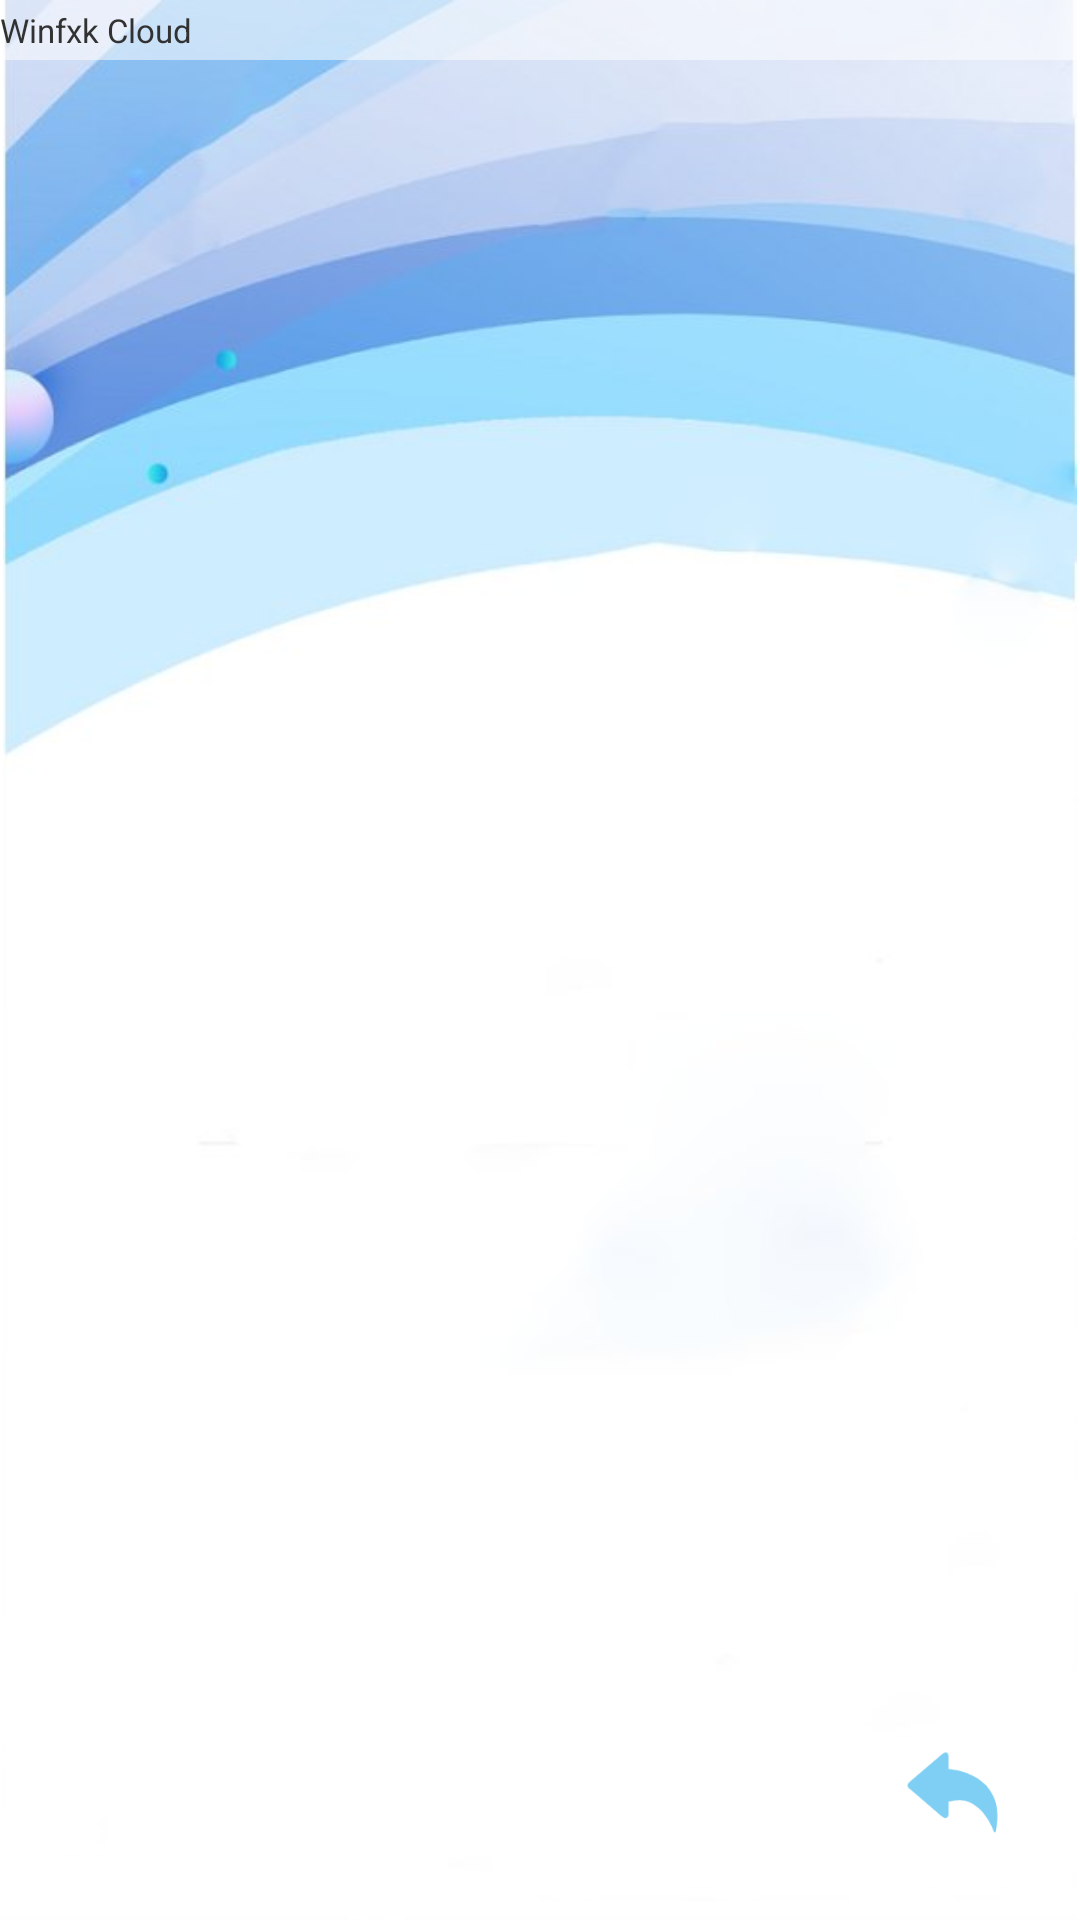

Locate icon controls on the screen. Image size 1080*1920, boxes as [left=x1, top=y1, right=x2, bottom=y2].
返回: [left=907, top=1752, right=998, bottom=1833]
